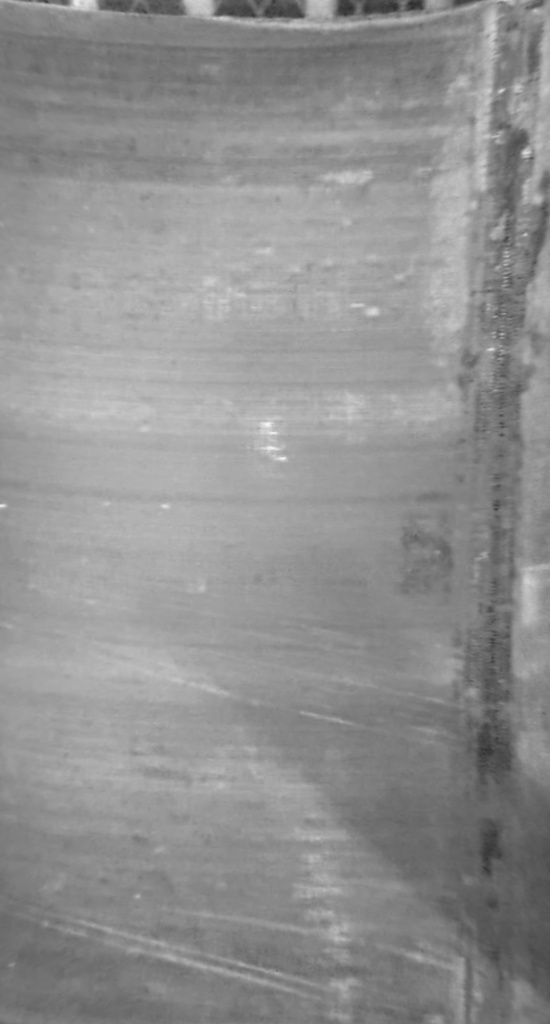splice: (445, 1, 548, 1022)
